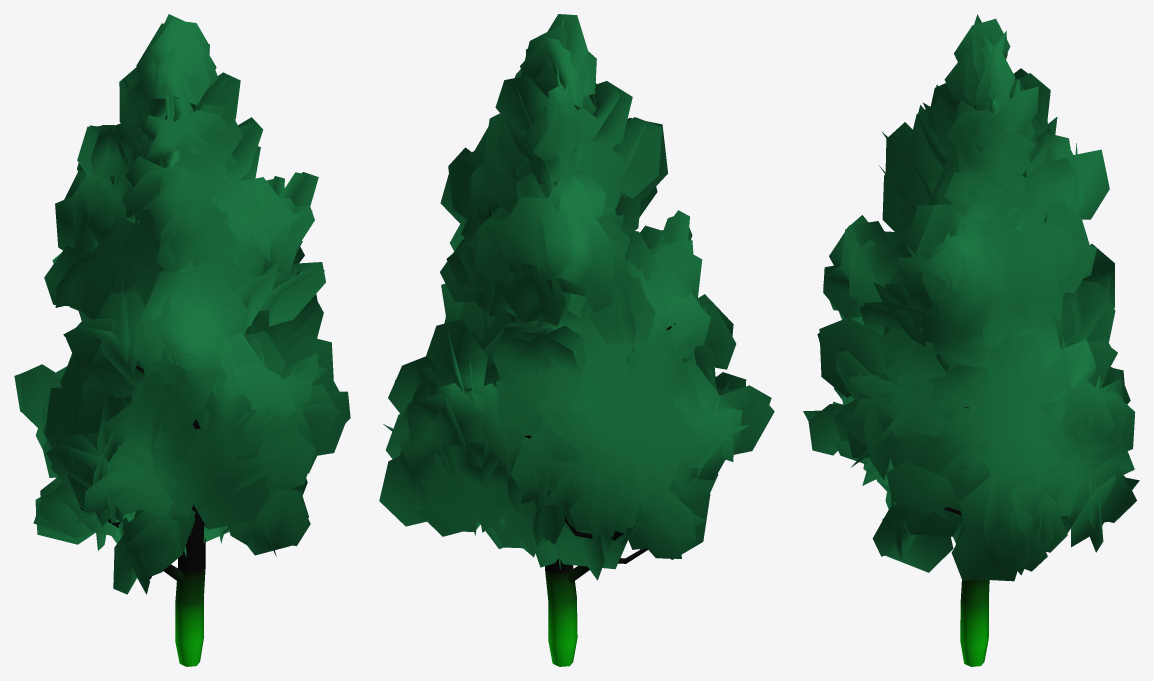
Rendered from SM_BirchTree3.fbx.
3 views of the same model, side by side, from view 1: azimuth 30°, elevation 25°; view 2: azimuth 150°, elevation 25°; view 3: azimuth 270°, elevation 25° (orthographic).
Parts seen in each view (by area): view 1: SM_BirchTree3_LOD0; view 2: SM_BirchTree3_LOD0; view 3: SM_BirchTree3_LOD0.
Part boxes in pixels (x1,y1,x2,y2): SM_BirchTree3_LOD0: (14,14,350,666); SM_BirchTree3_LOD0: (379,14,774,666); SM_BirchTree3_LOD0: (803,14,1139,666).
Size of what is drawn, in the model's own units: 1207 by 2460 by 1171.
